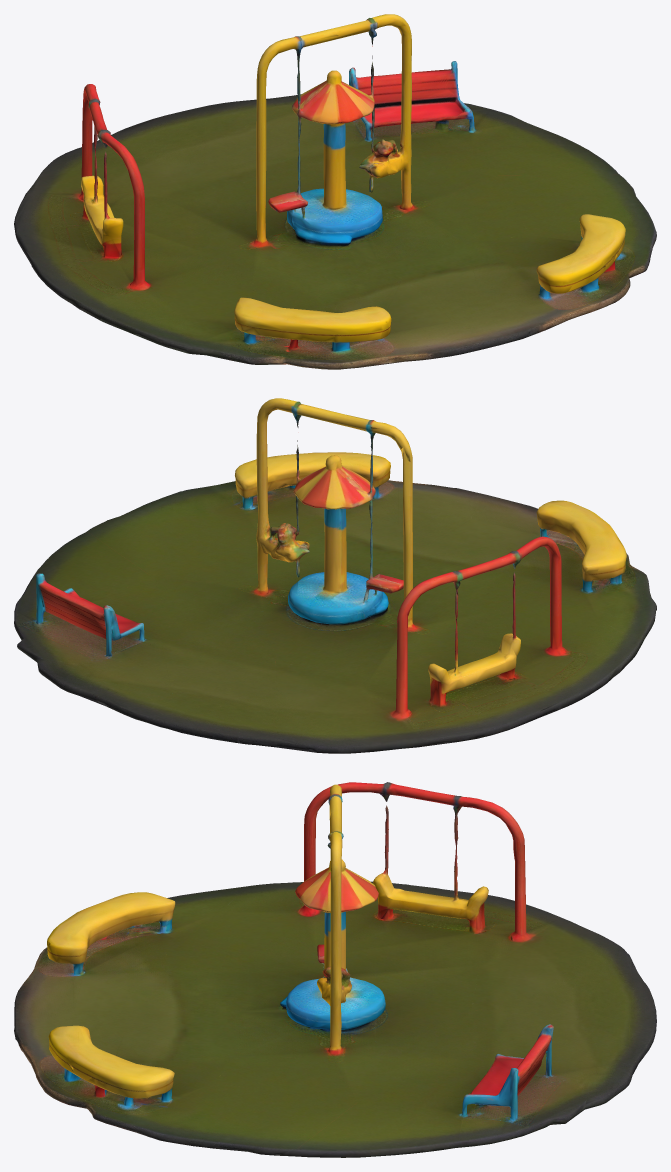
Rendered from Ploshadka.glb.
3 views of the same model, one above another, from view 1: azimuth 30°, elevation 25°; view 2: azimuth 150°, elevation 25°; view 3: azimuth 270°, elevation 25° (orthographic). The views are drawn at different scales.
Bounding box in the file's own units: 2 × 0.7249 × 2.
1 material, 1 textured.
